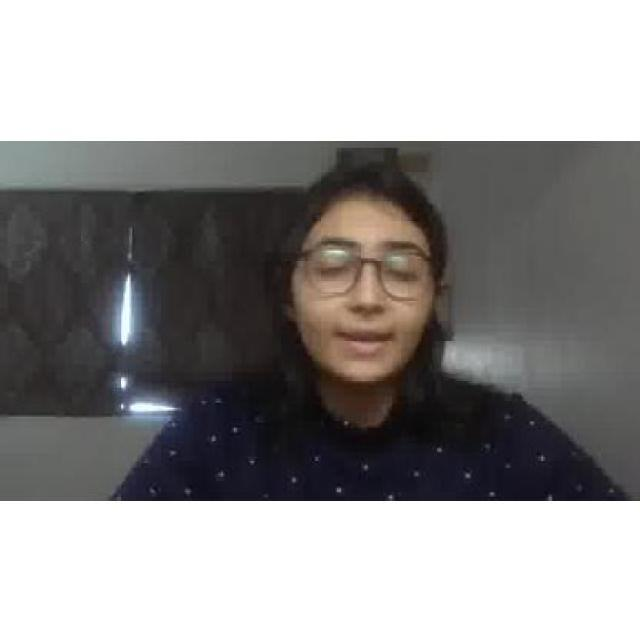attentif: (287, 166, 448, 385)
